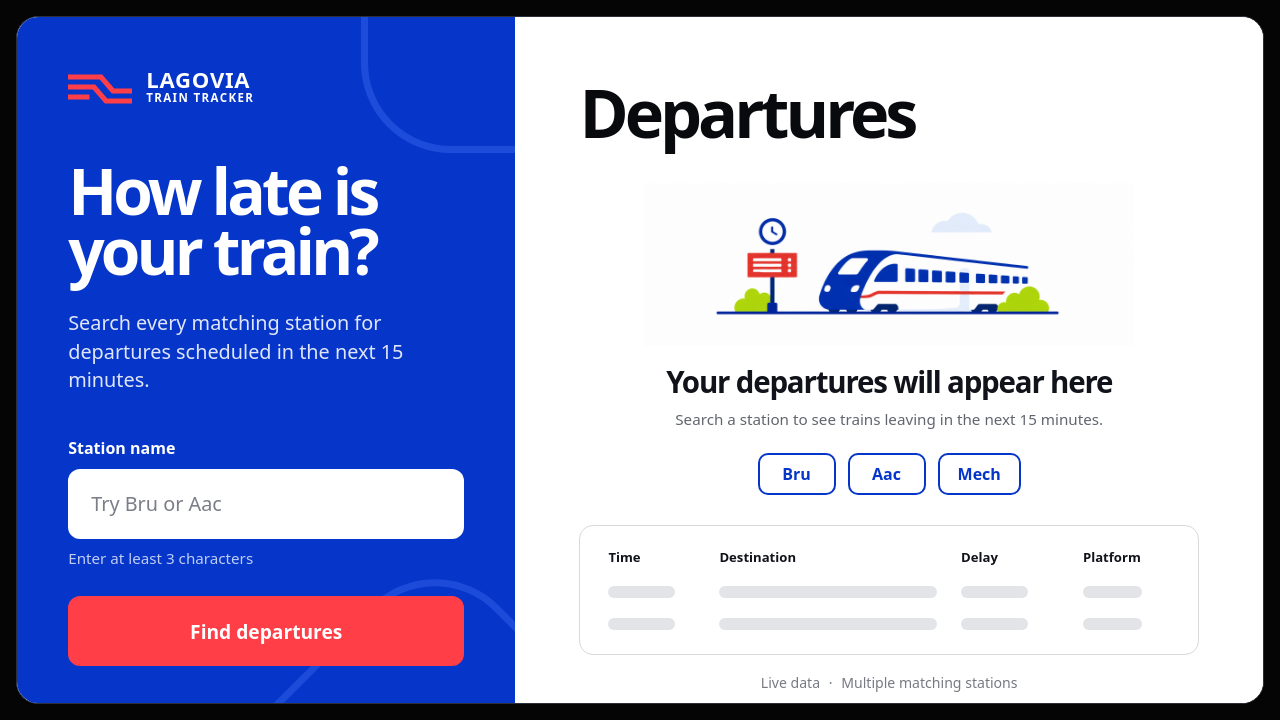
App › submits the query and renders returned departures
Type "Bru" into the search field labelled "Station name".
click(266, 504); type("Bru")  # box [68,469,464,539]
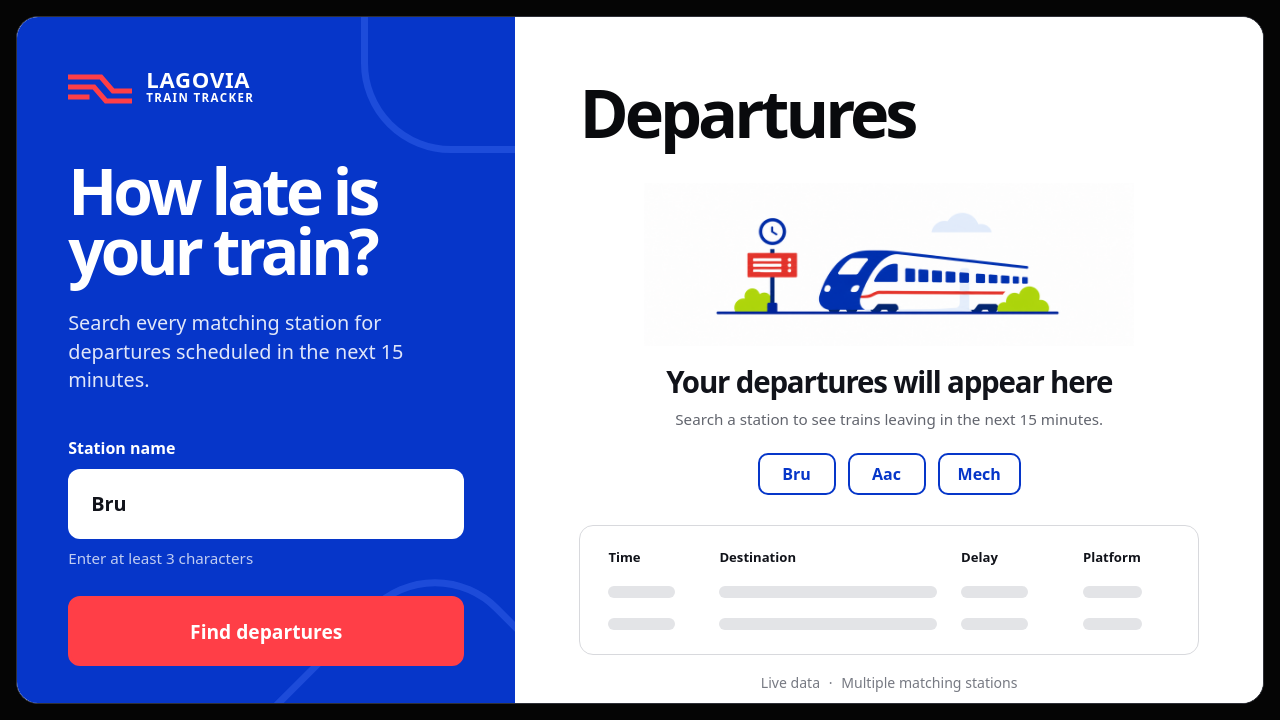
Click the button "Find departures".
click(266, 631)  # box [68,596,464,666]
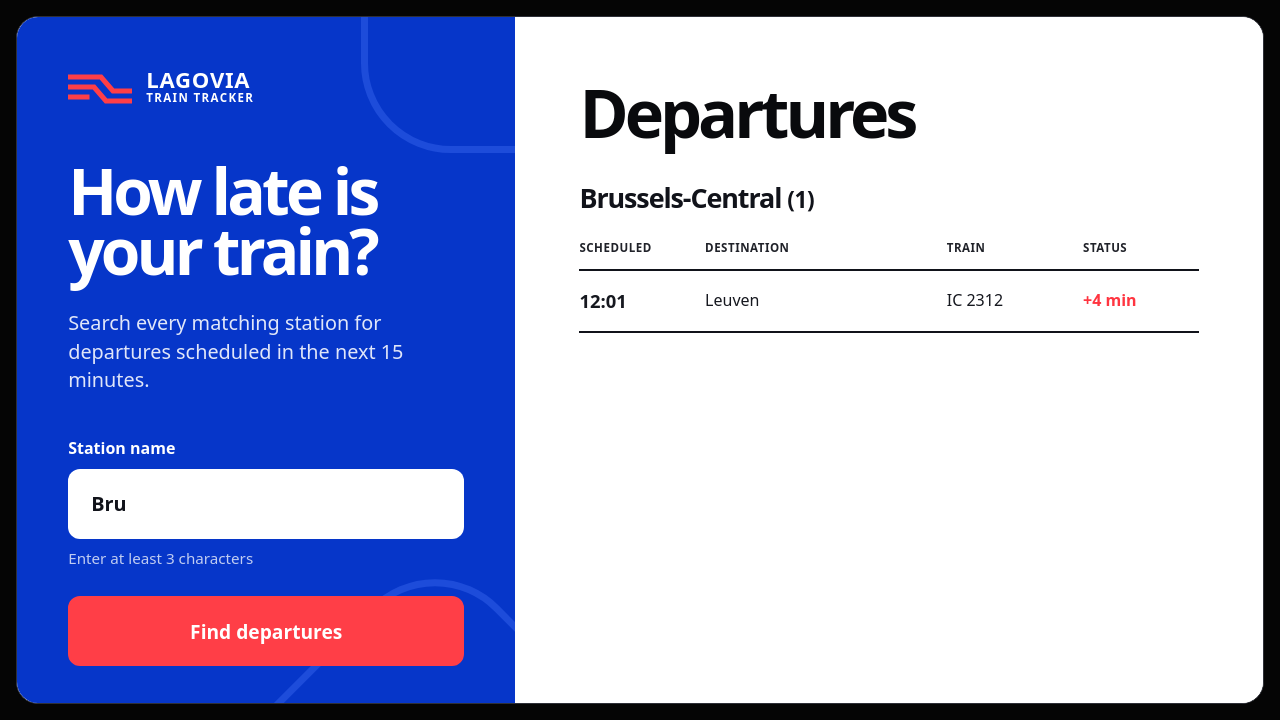
Check: the heading "Brussels-Central (1)" is shown, box [579,179,814,216]
Check: the text "IC 2312" is shown, box [939,270,1075,332]
